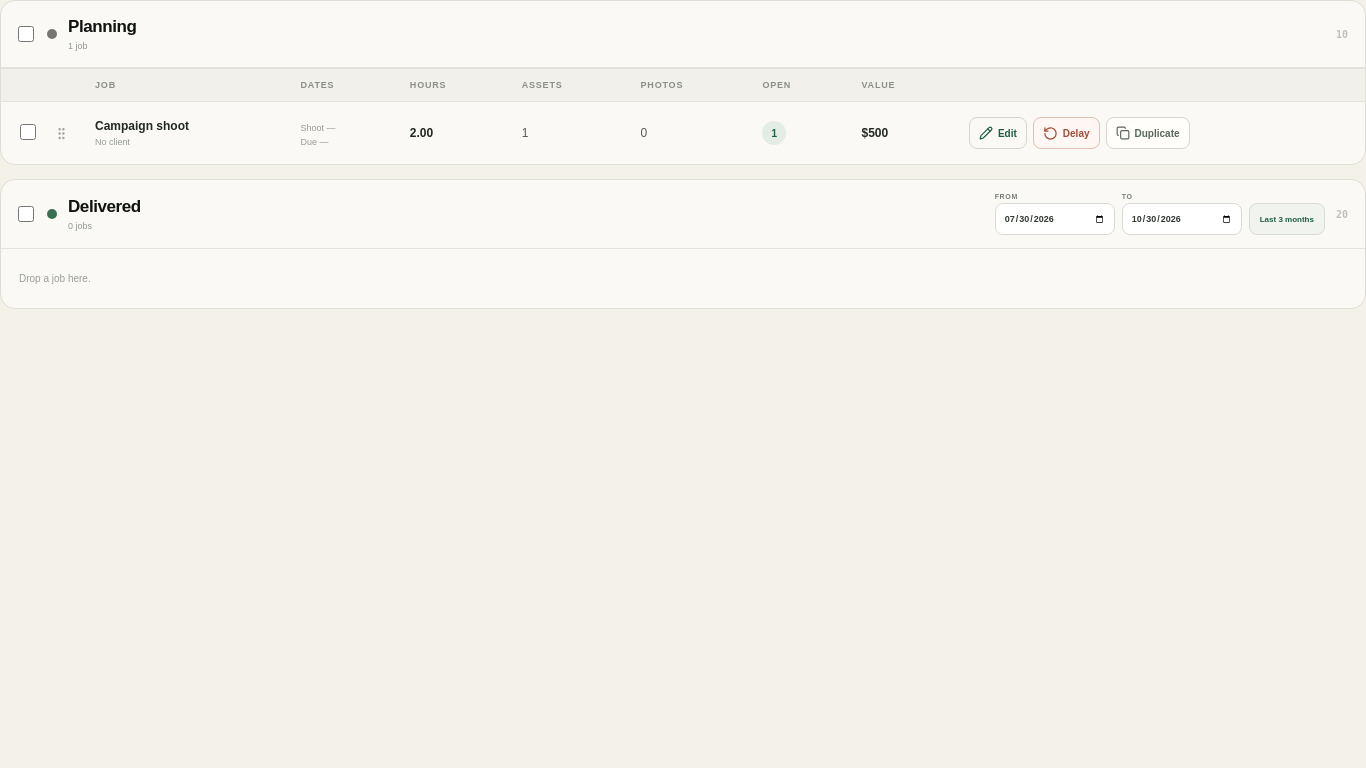
it: StatusGroupedTable › selects a complete status group and applies one bulk status change
Click the checkbox named "Select all Planning jobs": (26, 34) [18, 26, 34, 42]
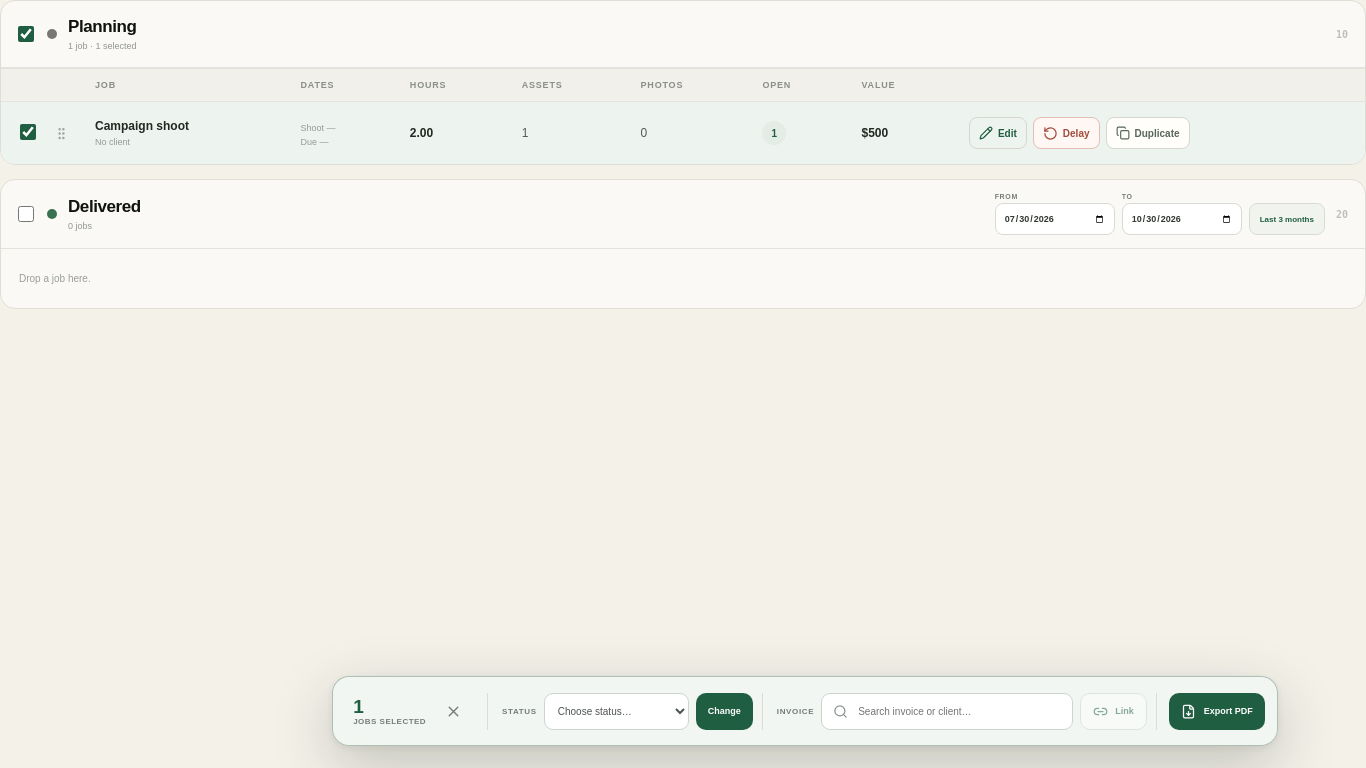
Now the checkbox named "Select Campaign shoot" is checked, box [20, 124, 36, 140]
Now the text "1 selected" is shown, box [88, 41, 136, 51]
Select "Delivered" in the dropdown named "New status for selected jobs": (616, 711) [544, 692, 689, 730]
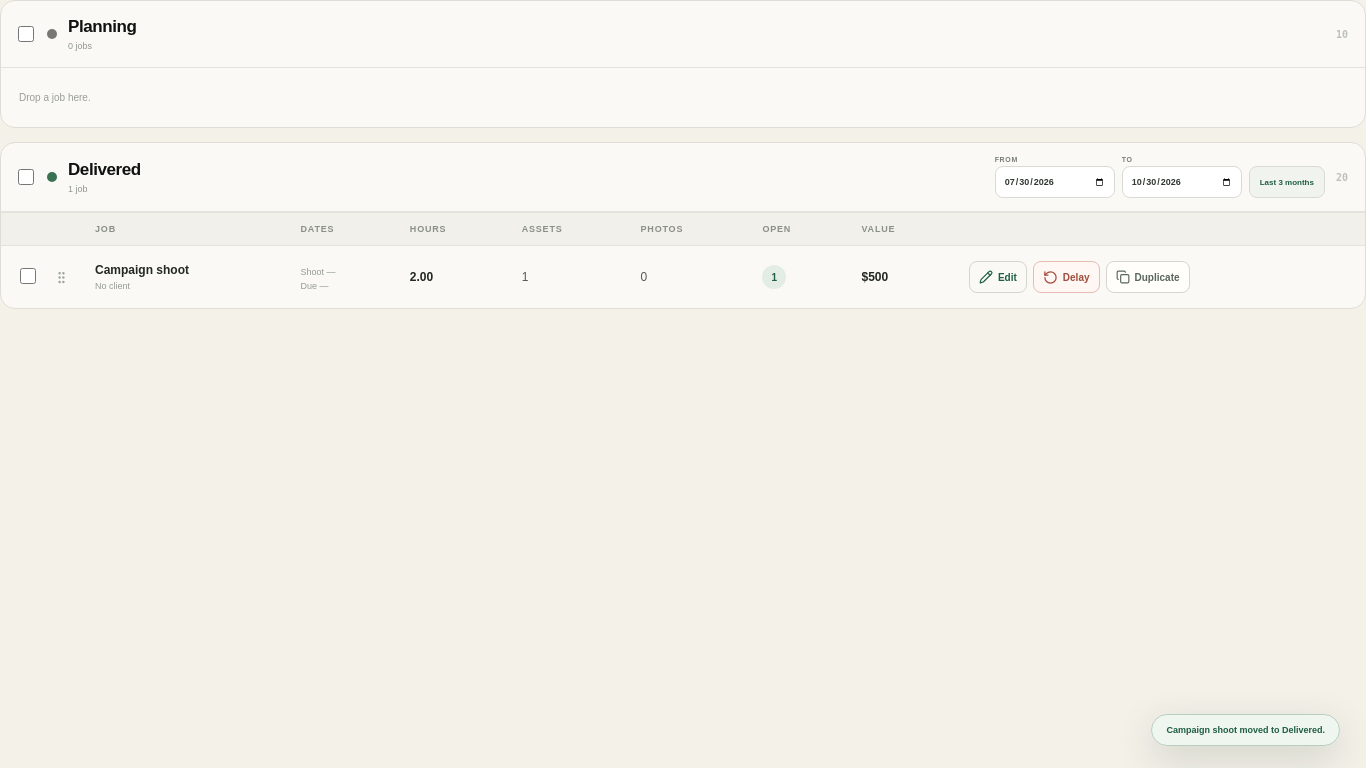
Now the text "moved to Delivered" is shown, box [1166, 725, 1325, 735]
